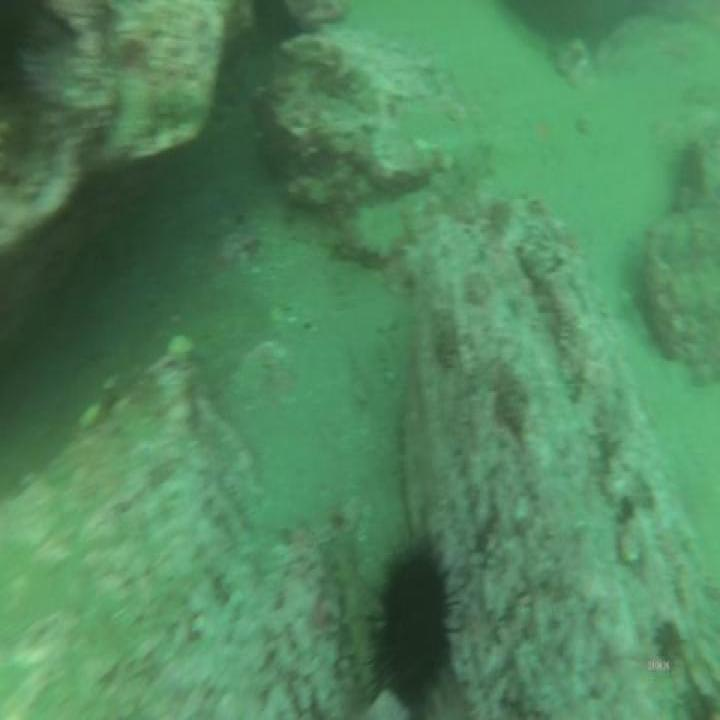echinus: (355, 516, 467, 711)
